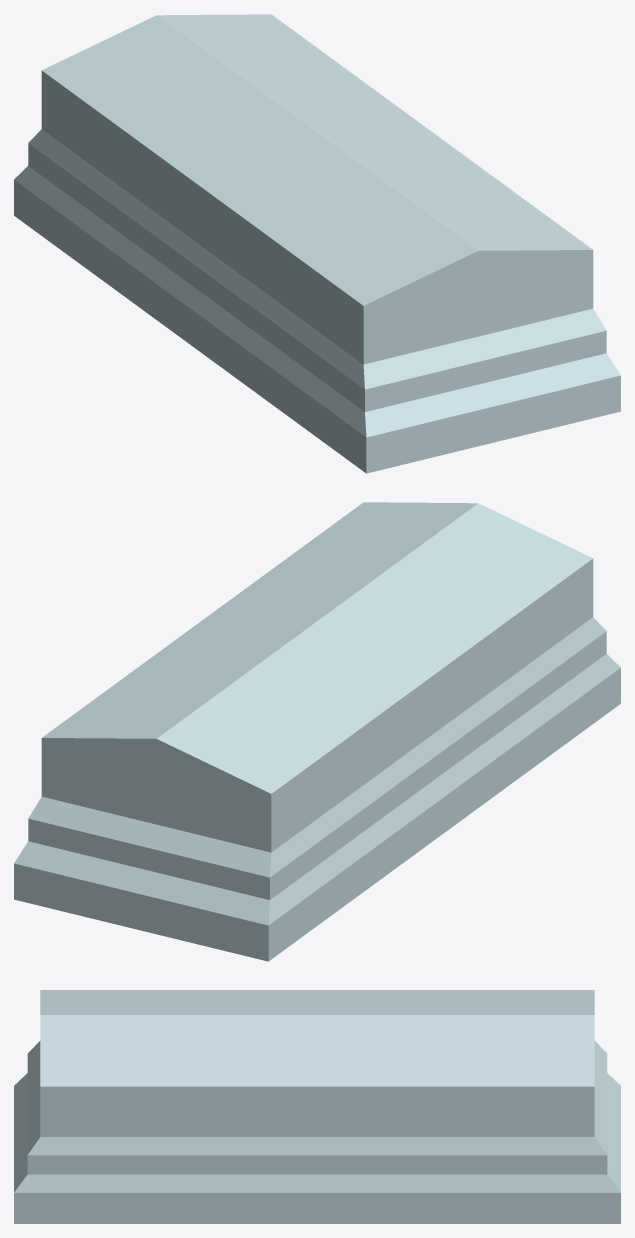
The model's file is gravestoneFlatOpen.glb.
3 views of the same model, one above another, from view 1: azimuth 30°, elevation 25°; view 2: azimuth 150°, elevation 25°; view 3: azimuth 270°, elevation 25° (orthographic). The views are drawn at different scales.
Parts seen in each view (by area): view 1: gravestoneFlatOpen, lid; view 2: gravestoneFlatOpen, lid; view 3: gravestoneFlatOpen, lid.
Boxes of the visible parts, left/top/right/bottom form: gravestoneFlatOpen: left=14, top=81, right=620, bottom=473; lid: left=41, top=14, right=593, bottom=315; gravestoneFlatOpen: left=14, top=569, right=620, bottom=961; lid: left=41, top=502, right=593, bottom=803; gravestoneFlatOpen: left=14, top=1041, right=620, bottom=1223; lid: left=40, top=990, right=594, bottom=1095.
Size of the model in its own units: 0.472 by 0.32 by 1.13.
